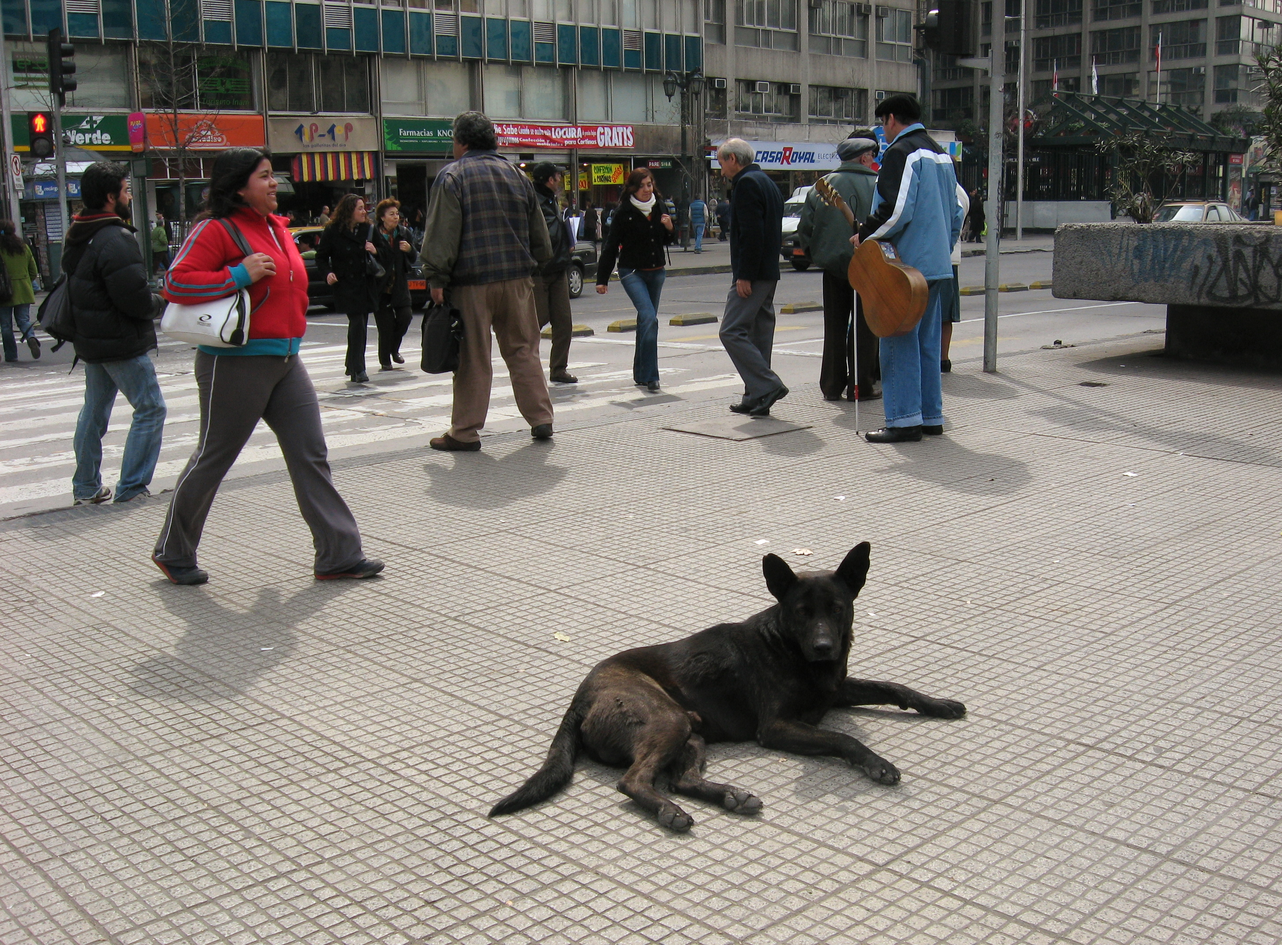Dog: (488, 538, 950, 861)
Person: (138, 142, 390, 591), (401, 97, 594, 457), (858, 88, 969, 459), (705, 129, 788, 434), (598, 153, 695, 392)
TraficLight: (12, 33, 92, 170)
